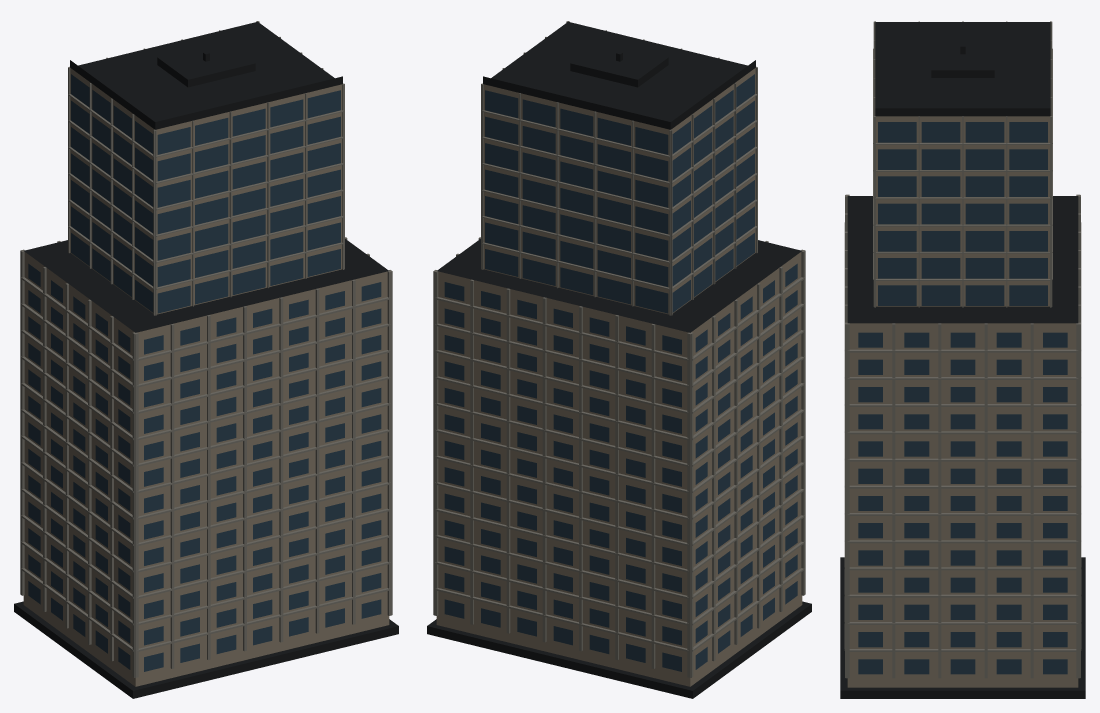
The model's file is office-04.glb.
3 renders of one model, left to right at view 1: azimuth 30°, elevation 25°; view 2: azimuth 150°, elevation 25°; view 3: azimuth 270°, elevation 25°, orthographic. The views are drawn at different scales.
Visible parts, largest first — view 1: stepped-tower; view 2: stepped-tower; view 3: stepped-tower.
Boxes of the visible parts, left/top/right/bottom form: stepped-tower: left=14, top=21, right=398, bottom=698; stepped-tower: left=427, top=21, right=811, bottom=698; stepped-tower: left=840, top=21, right=1085, bottom=698.
Size of the model in its own units: 39.66 by 81.26 by 30.77.
